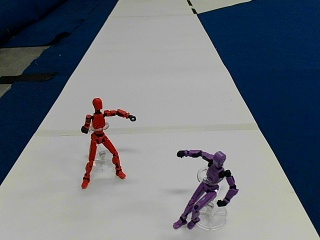pedestrian: (174, 146, 236, 228), (79, 98, 133, 187)
